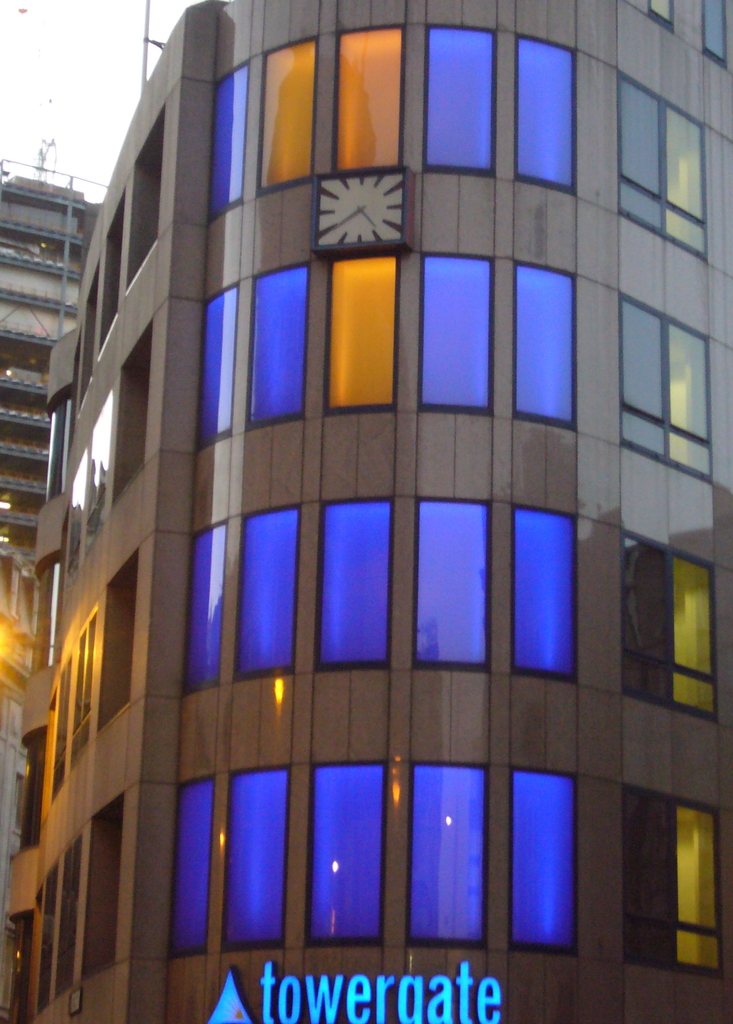Window: (163, 760, 585, 961), (182, 494, 579, 707), (189, 247, 574, 461), (203, 44, 572, 216), (68, 104, 172, 413), (45, 545, 142, 805), (65, 316, 161, 578), (33, 784, 124, 1023), (614, 532, 720, 719), (613, 287, 714, 481), (621, 785, 722, 978), (611, 70, 712, 259), (698, 0, 725, 63), (648, 0, 671, 29)
